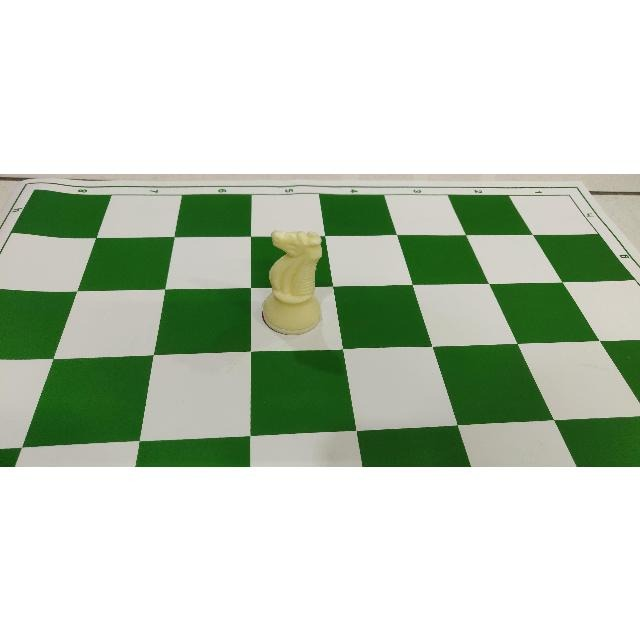white-knight: (261, 229, 322, 335)
